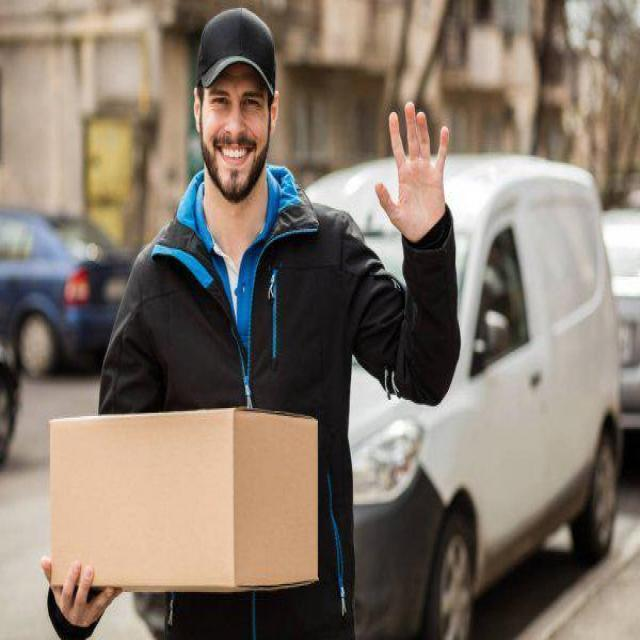box: (40, 393, 322, 602)
